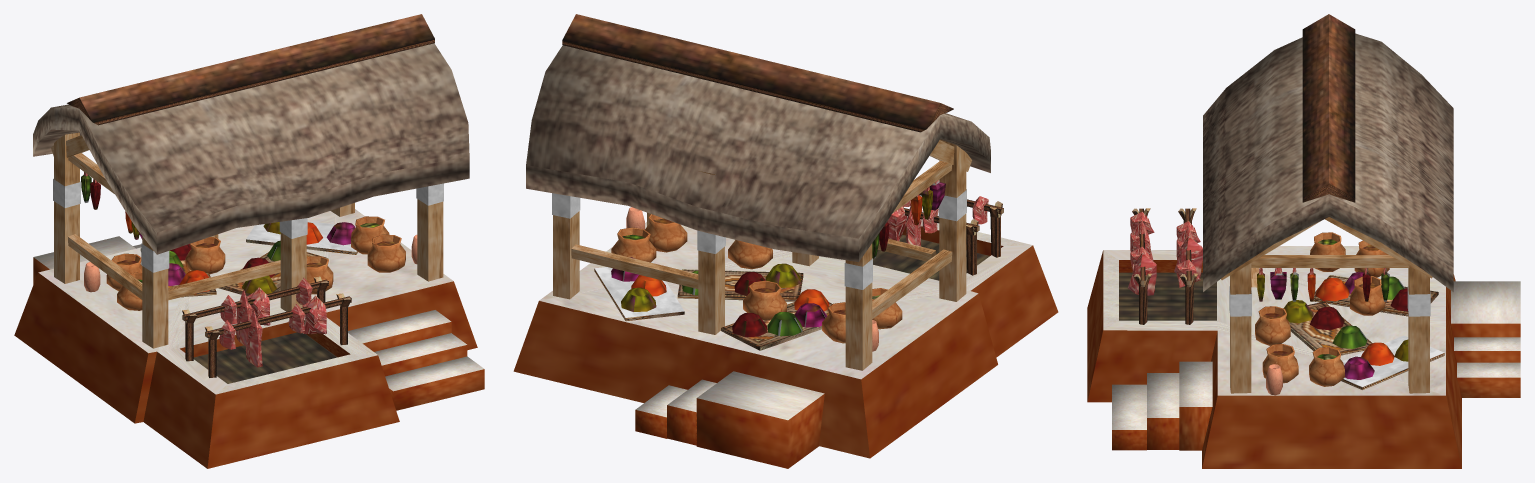
The model's file is farmstead_1.dae.
The picture shows the model from 3 angles, left to right: view 1: azimuth 30°, elevation 25°; view 2: azimuth 150°, elevation 25°; view 3: azimuth 270°, elevation 25°; orthographic projection. The views are drawn at different scales.
Parts seen in each view (by area): view 1: farm_1; view 2: farm_1; view 3: farm_1.
Part boxes in pixels (bbox=[...]): farm_1: bbox=[14, 14, 484, 468]; farm_1: bbox=[513, 14, 1058, 468]; farm_1: bbox=[1087, 14, 1520, 468].
Bounding box in the file's own units: 12.84 × 13.7 × 10.11.
